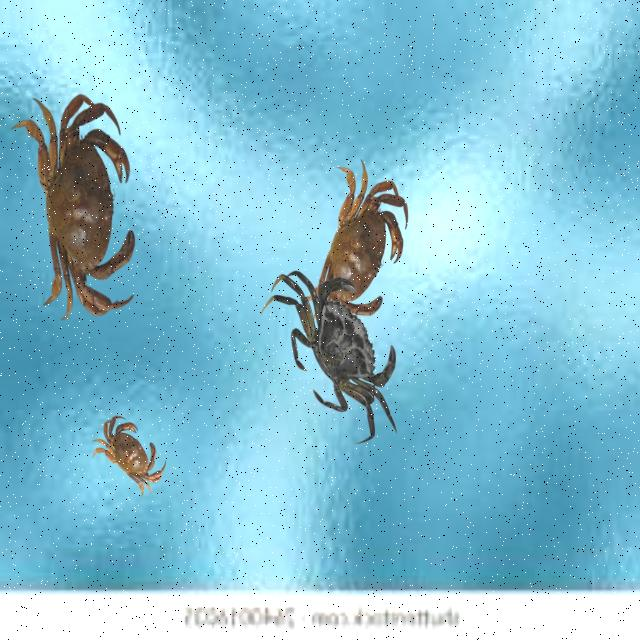European_Green_Crab: (280, 276, 418, 458)
